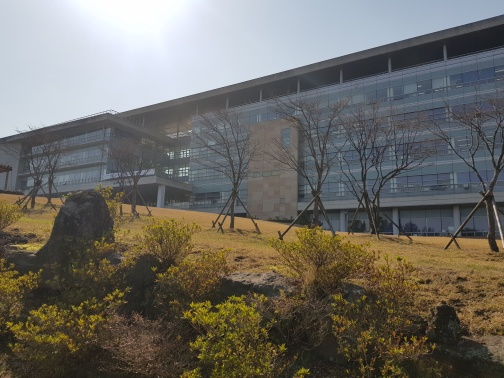Engineering College Building 4: (2, 83, 504, 204), (228, 74, 499, 240), (62, 117, 216, 196)
